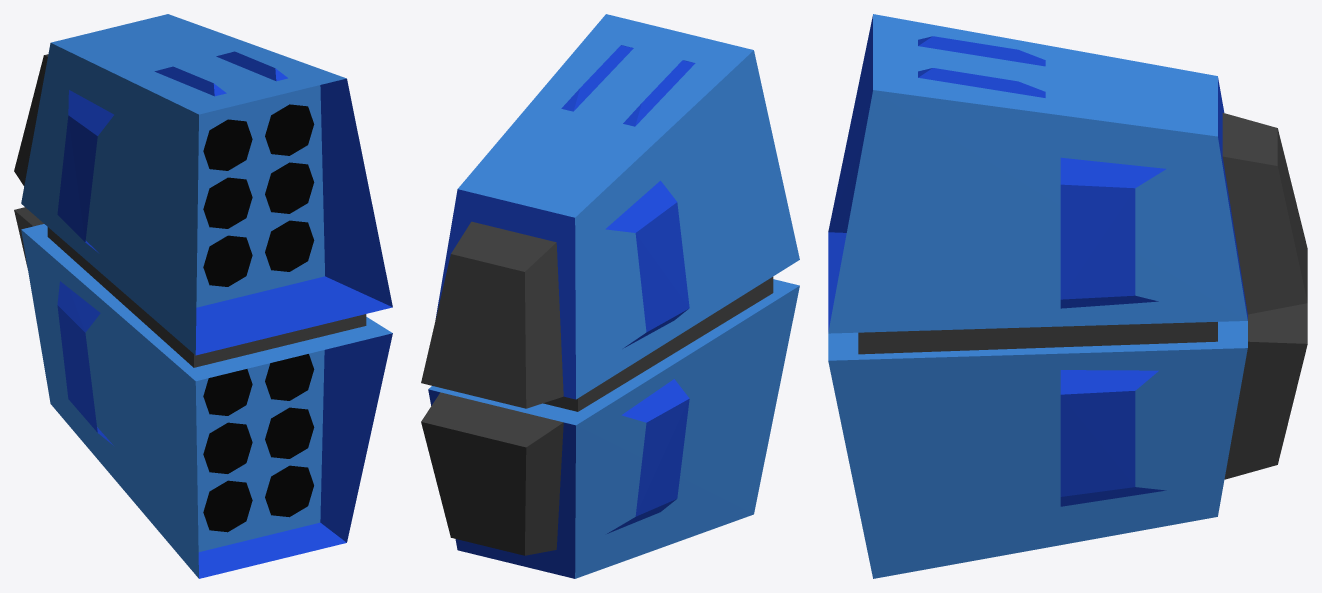
Rendered from rarm.FBX.
The picture shows the model from 3 angles, left to right: view 1: azimuth 30°, elevation 25°; view 2: azimuth 150°, elevation 25°; view 3: azimuth 270°, elevation 25°; orthographic projection. The views are drawn at different scales.
Visible parts, largest first — view 1: VIFS001, VIFS002, VIFS004, VIFS003; view 2: VIFS001, VIFS003, VIFS002; view 3: VIFS001, VIFS002, VIFS003.
Boxes of the visible parts, x1,y1,x2,y2 form: VIFS001: (21,14,392,578); VIFS002: (57,51,392,578); VIFS004: (203,104,314,532); VIFS003: (14,54,366,367); VIFS001: (428,14,799,578); VIFS003: (421,221,773,555); VIFS002: (428,45,695,578); VIFS001: (828,14,1247,578); VIFS002: (828,16,1247,506); VIFS003: (858,113,1307,479).
Size of the model in its own units: 0.8889 by 2 by 1.78.
